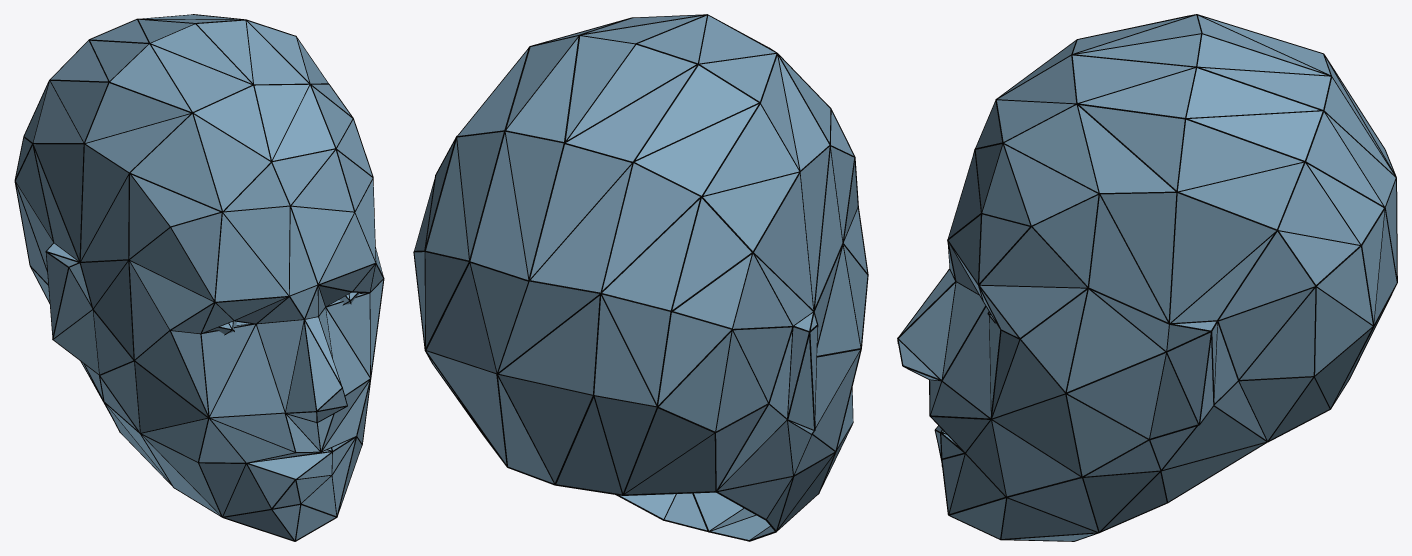
The model's file is player-blue.glb.
3 renders of one model, left to right at view 1: azimuth 30°, elevation 25°; view 2: azimuth 150°, elevation 25°; view 3: azimuth 270°, elevation 25°, orthographic. The views are drawn at different scales.
Visible parts, largest first — view 1: polySurface26 (×2); view 2: polySurface26 (×2); view 3: polySurface26 (×2).
Part boxes in pixels (x1=…): polySurface26 (×2): x1=14, y1=14, x2=384, y2=541; polySurface26 (×2): x1=413, y1=14, x2=868, y2=541; polySurface26 (×2): x1=897, y1=14, x2=1397, y2=541.
Bounding box in the file's own units: 4.19 × 6.06 × 5.58.
